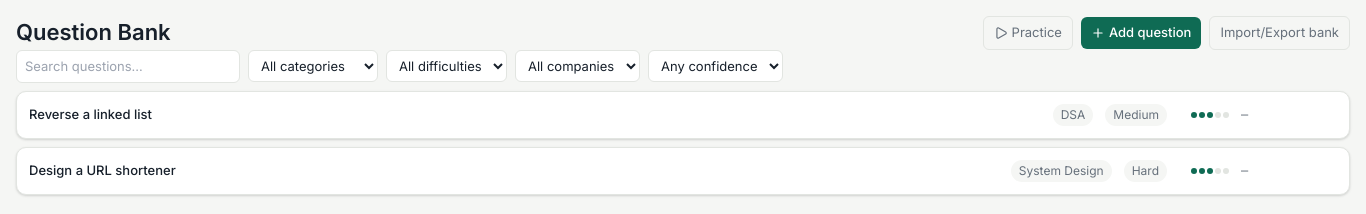
QuestionsPage › filters combine: category + search text
Select "System Design" in the dropdown named "Filter by category" at point(313, 66), box [248, 50, 378, 82]
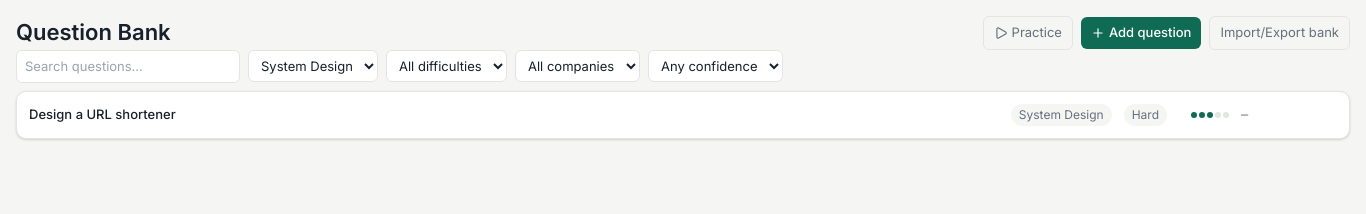
Expected: the text "Design a URL shortener" is shown, [29, 106, 176, 122]
Expected: the button "Reverse a linked list" is gone
Type "linked list" into the field labelled "Search questions" at point(128, 66), box [16, 50, 240, 83]
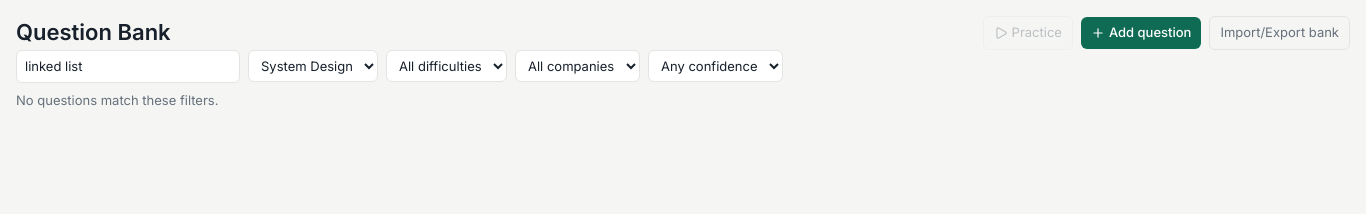
Expected: the button "Design a URL shortener" is gone
Expected: the text "No questions match these filters." is shown, [16, 92, 218, 108]
